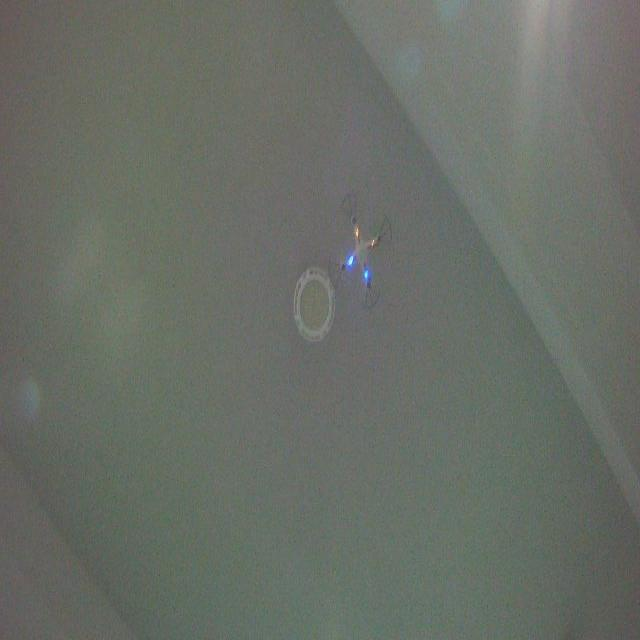drone: (327, 190, 396, 311)
